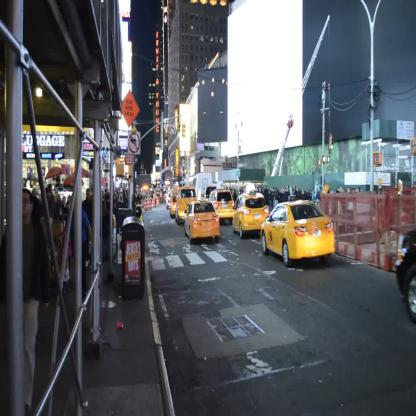car: (260, 201, 334, 267), (233, 193, 268, 240), (184, 201, 219, 243), (209, 190, 234, 224), (176, 186, 197, 226)
